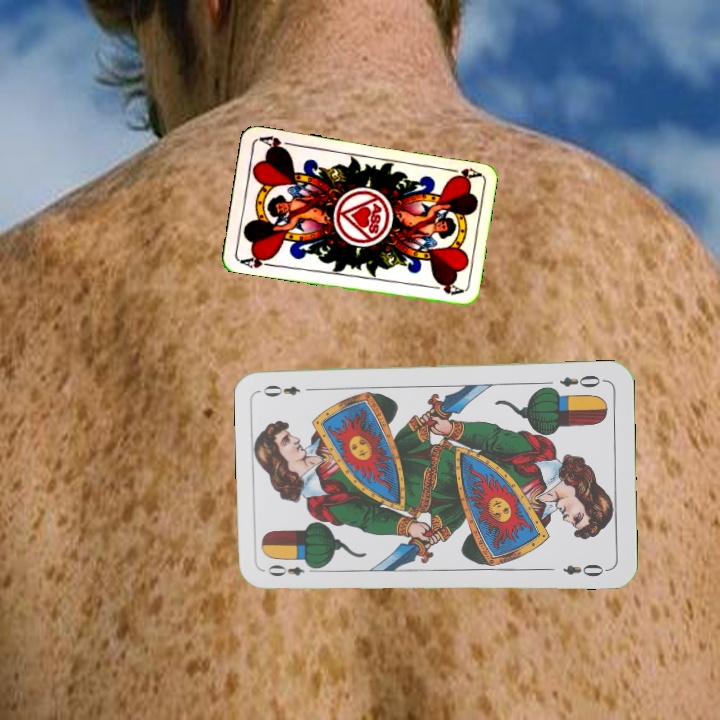EO: (263, 559, 321, 580), (556, 371, 603, 391)
HA: (236, 250, 277, 270), (441, 164, 482, 182)
